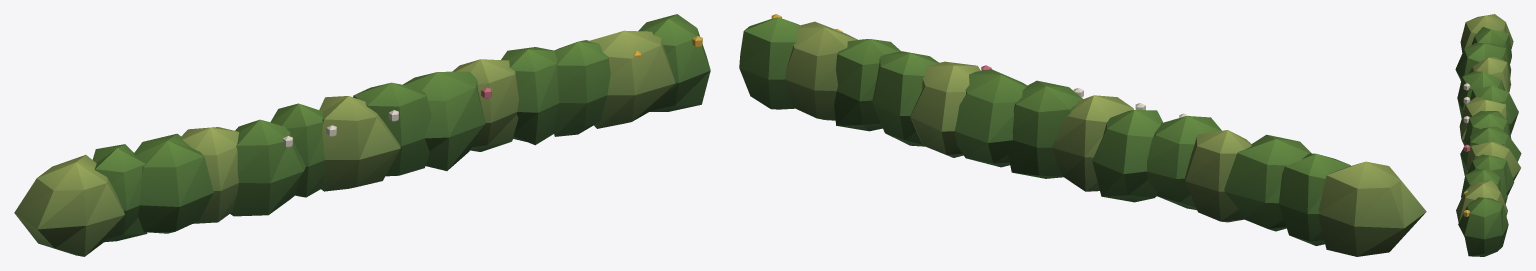
The model's file is scene_hedge_0.glb.
The picture shows the model from 3 angles, left to right: view 1: azimuth 30°, elevation 25°; view 2: azimuth 150°, elevation 25°; view 3: azimuth 270°, elevation 25°; orthographic projection. The views are drawn at different scales.
Visible parts, largest first — view 1: scene_hedge_0; view 2: scene_hedge_0; view 3: scene_hedge_0.
Part boxes in pixels (left/top/right/bottom): scene_hedge_0: left=14, top=14, right=710, bottom=256; scene_hedge_0: left=739, top=14, right=1426, bottom=256; scene_hedge_0: left=1455, top=14, right=1521, bottom=256.
Size of the model in its own units: 8.54 by 1.12 by 1.14.
